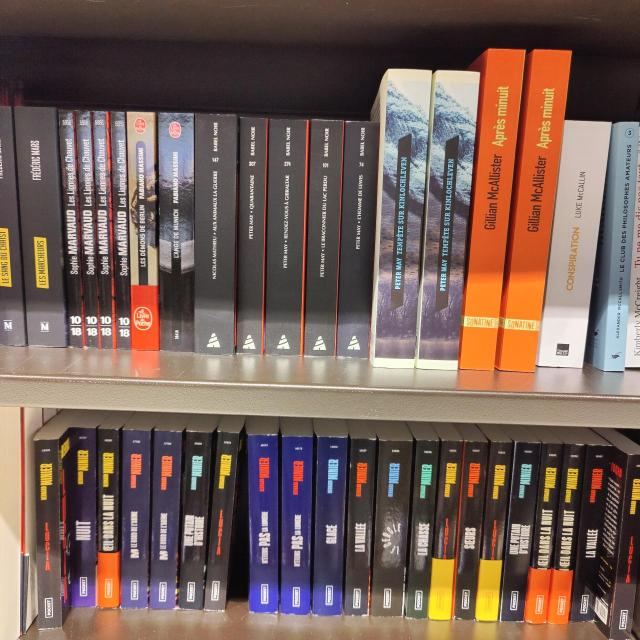book: (499, 49, 571, 372), (460, 49, 524, 372), (416, 71, 479, 371), (539, 120, 611, 368), (374, 69, 432, 369), (14, 108, 68, 346), (265, 121, 308, 356), (338, 122, 380, 359), (195, 114, 236, 356), (303, 120, 345, 356), (604, 123, 640, 372), (158, 113, 194, 351), (570, 444, 612, 623), (236, 118, 267, 354), (500, 441, 540, 623), (371, 440, 412, 616), (126, 112, 156, 351), (548, 443, 587, 624), (474, 441, 512, 622), (526, 444, 564, 624), (203, 431, 240, 612), (311, 437, 348, 616), (428, 440, 464, 621), (58, 109, 85, 348), (74, 111, 101, 350), (178, 431, 212, 610), (453, 442, 487, 620), (406, 440, 439, 617), (280, 435, 312, 615), (149, 430, 181, 609), (120, 429, 151, 609), (610, 455, 640, 640), (33, 440, 62, 631), (344, 439, 375, 615), (92, 109, 114, 349), (249, 435, 278, 613), (111, 112, 132, 349), (69, 426, 96, 607), (97, 429, 118, 608)
